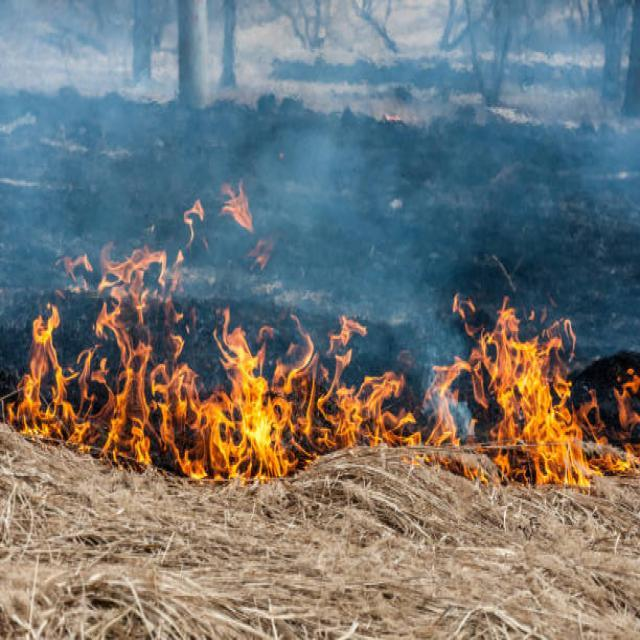Fire: (26, 286, 640, 514), (178, 174, 262, 248)
